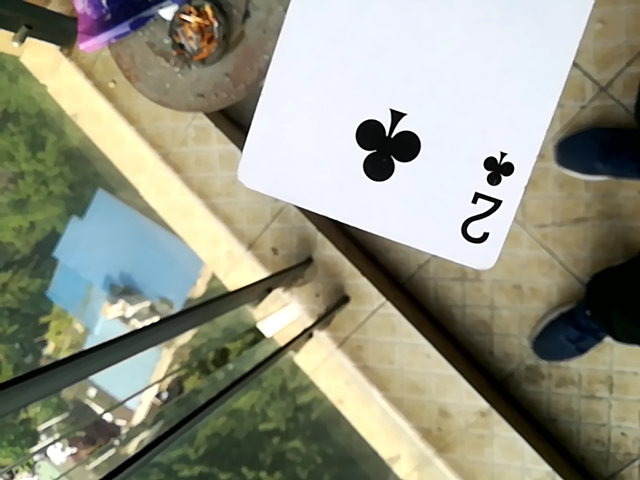mh 2: (241, 0, 629, 272)
